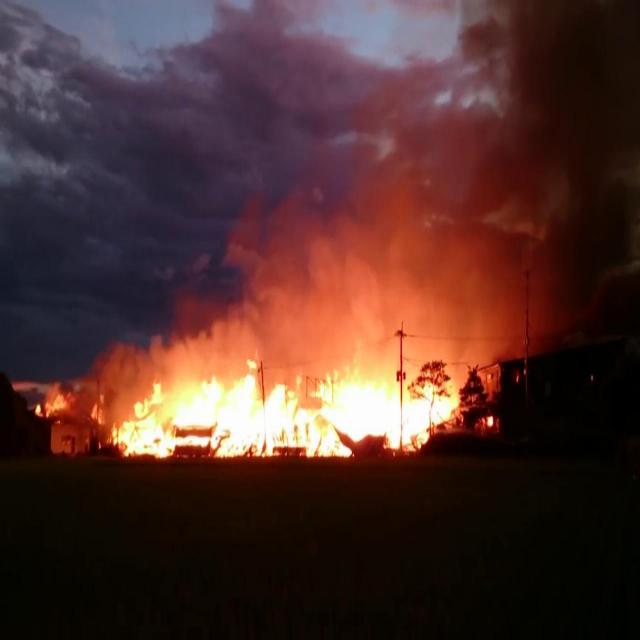fire: (40, 361, 471, 464)
